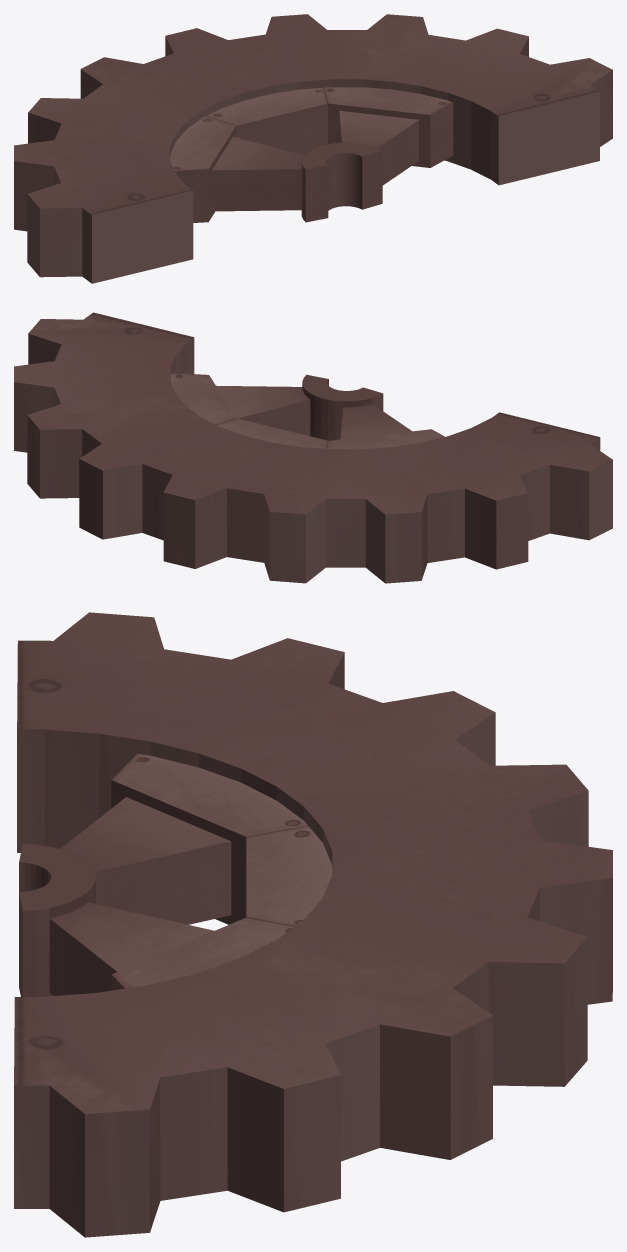
File: newHalfGear.dae
3 renders of one model, top to bottom at view 1: azimuth 30°, elevation 25°; view 2: azimuth 150°, elevation 25°; view 3: azimuth 270°, elevation 25°, orthographic. The views are drawn at different scales.
Visible parts, largest first — view 1: Circle, Circle.002; view 2: Circle, Circle.002; view 3: Circle, Circle.002.
Part boxes in pixels (x1,y1,x2,y2): Circle: (14, 14, 612, 283); Circle.002: (170, 87, 453, 222); Circle: (14, 312, 612, 583); Circle.002: (170, 373, 444, 449); Circle: (14, 612, 612, 1237); Circle.002: (19, 753, 332, 996).
Bounding box in the file's own units: 2.54 × 1.28 × 0.2918.
2 materials, 2 textured.
